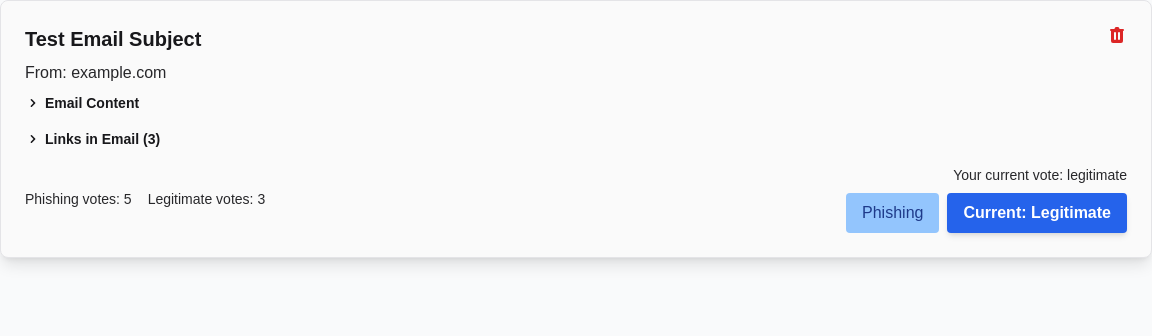
EmailCard › toggles content visibility when clicking content button
Check: the text "Test email content" is not shown
Click the button "Email Content": (82, 103) [25, 93, 139, 113]
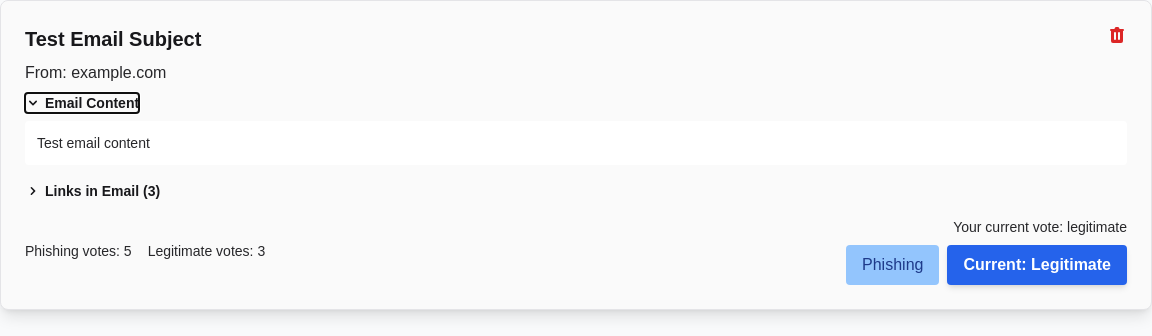
Check: the text "Test email content" is shown, box [37, 135, 150, 151]
Click the button "Email Content": (82, 103) [25, 93, 139, 113]
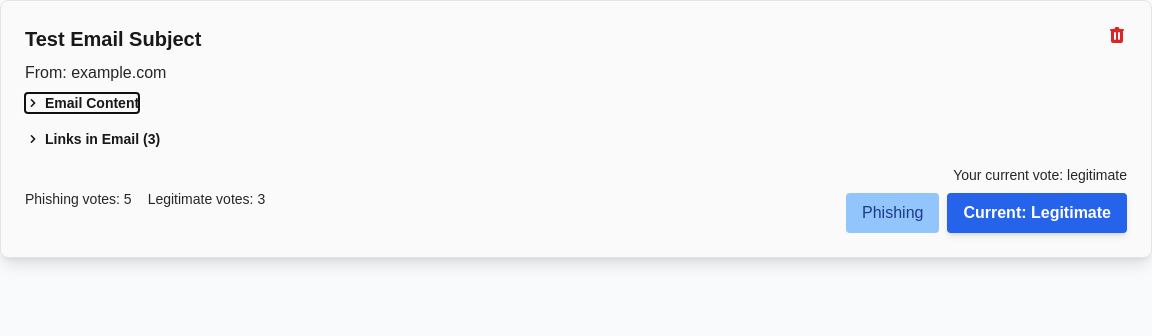
Check: the text "Test email content" is gone
